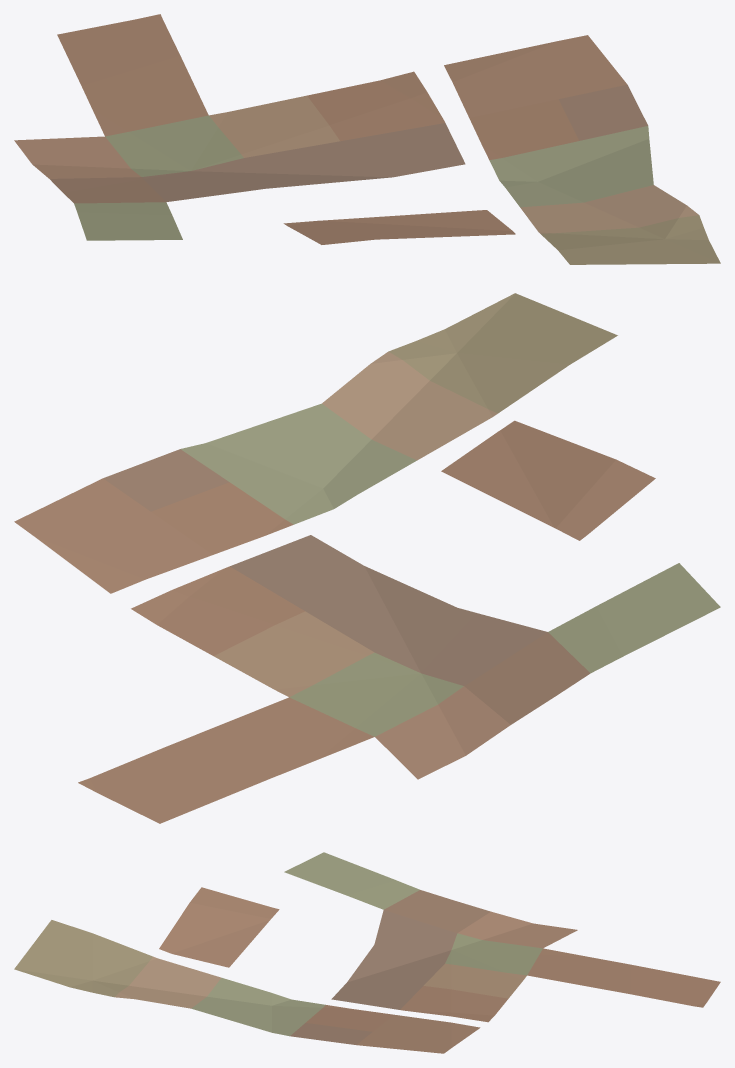
Rendered from farm_-7_-8_soil.glb.
The picture shows the model from 3 angles, top to bottom: view 1: azimuth 30°, elevation 25°; view 2: azimuth 150°, elevation 25°; view 3: azimuth 270°, elevation 25°; orthographic projection. The views are drawn at different scales.
Visible parts, largest first — view 1: geometry_0; view 2: geometry_0; view 3: geometry_0.
Part boxes in pixels (left/top/right/bottom): geometry_0: left=14, top=14, right=720, bottom=264; geometry_0: left=14, top=293, right=720, bottom=823; geometry_0: left=14, top=852, right=720, bottom=1053.
Bounding box in the file's own units: 213 × 37.21 × 315.
